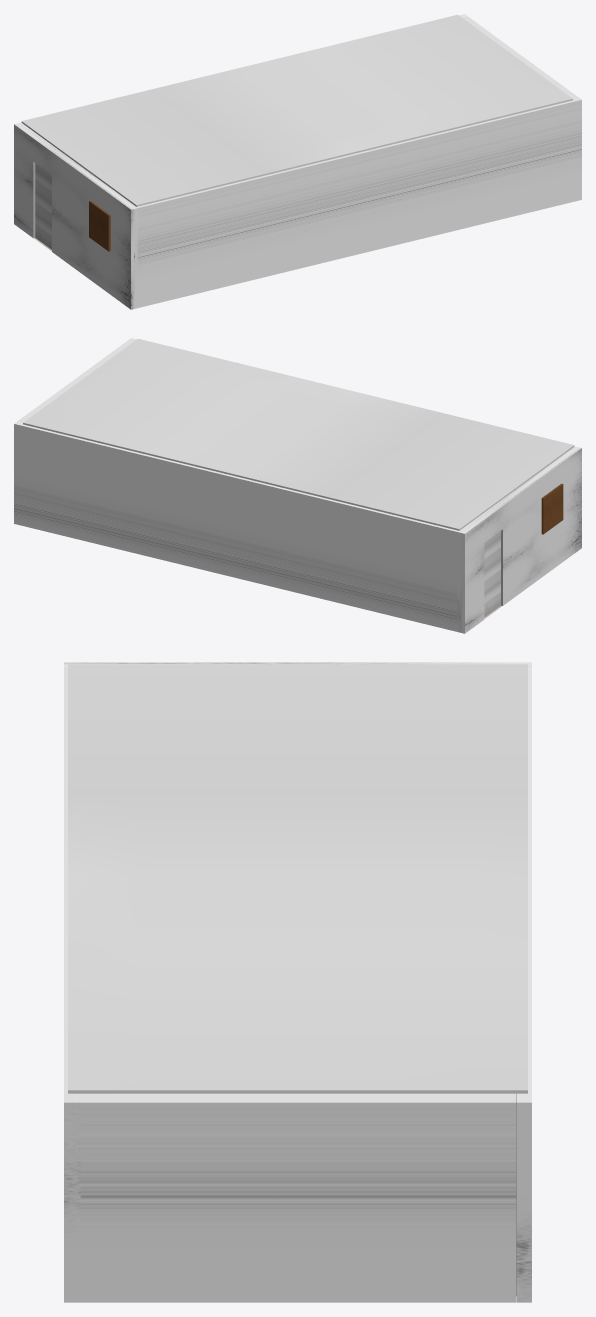
Rendered from Casa.fbx.
The picture shows the model from 3 angles, top to bottom: view 1: azimuth 30°, elevation 25°; view 2: azimuth 150°, elevation 25°; view 3: azimuth 270°, elevation 25°; orthographic projection. The views are drawn at different scales.
Parts seen in each view (by area): view 1: Cube, Teto, Porta, Janela; view 2: Cube, Teto, Porta, Janela; view 3: Teto, Cube.
Part boxes in pixels (box(x1,y1,x2,y2)): Cube: box(14, 14, 581, 309); Teto: box(21, 14, 572, 206); Porta: box(35, 163, 51, 249); Janela: box(89, 201, 110, 251); Cube: box(14, 338, 581, 633); Teto: box(23, 338, 574, 530); Porta: box(484, 531, 500, 617); Janela: box(541, 483, 563, 534); Teto: box(68, 664, 527, 1093); Cube: box(64, 662, 531, 1302).
Bounding box in the file's own units: 4031 × 870 × 1805.
